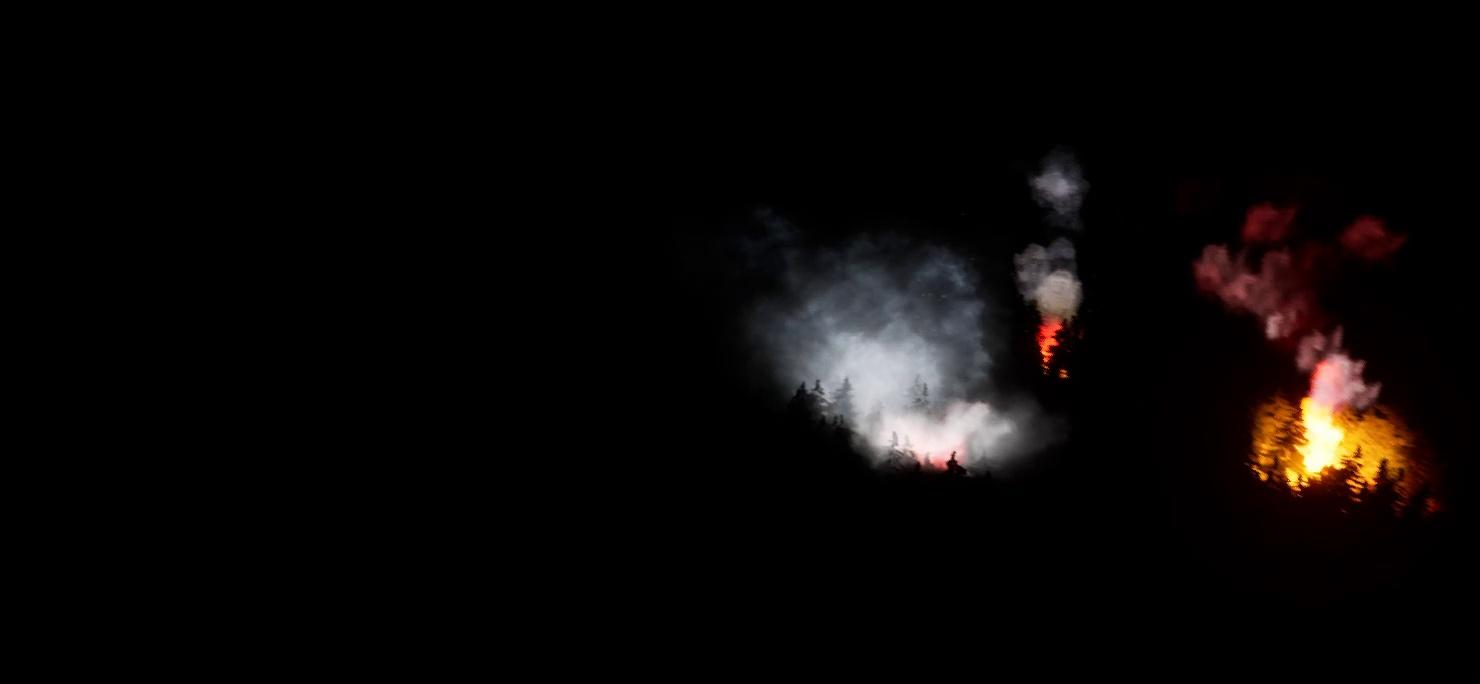fire: (1293, 401, 1364, 475), (1039, 322, 1080, 378)
smoke: (757, 247, 1049, 470), (1198, 201, 1411, 393), (1018, 160, 1093, 314)
